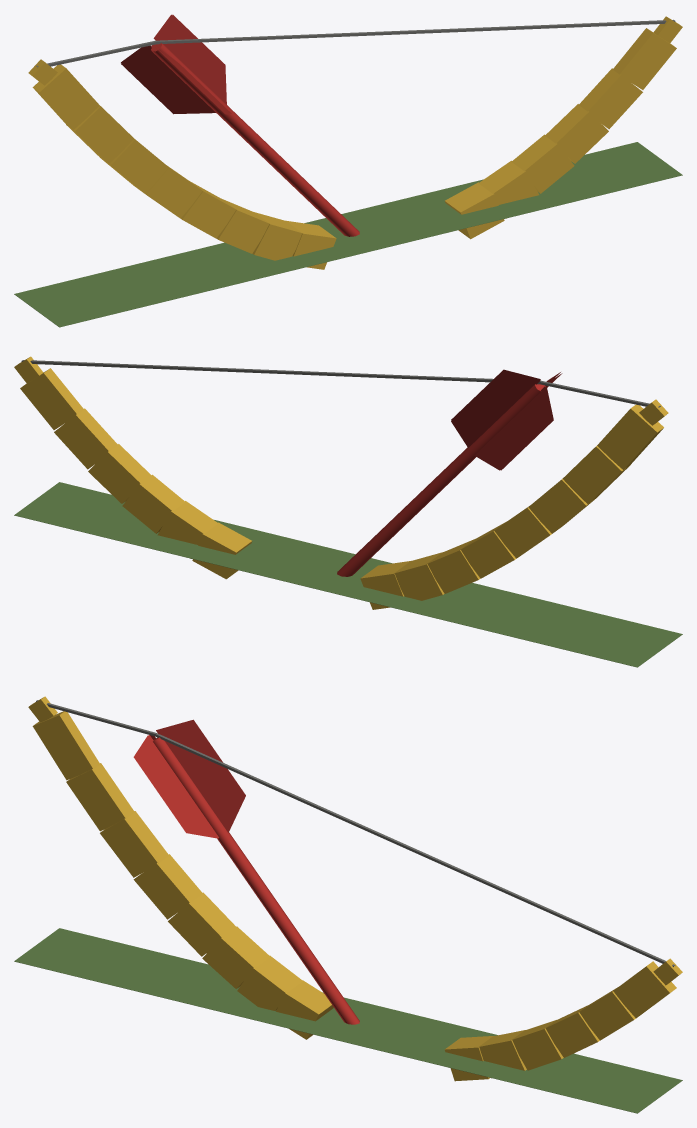
Rendered from cupids_span.glb.
3 views of the same model, one above another, from view 1: azimuth 30°, elevation 25°; view 2: azimuth 150°, elevation 25°; view 3: azimuth 330°, elevation 25° (orthographic).
Visible parts, largest first — view 1: cupids_span; view 2: cupids_span; view 3: cupids_span.
Part boxes in pixels (x1,y1,x2,y2): cupids_span: (14,14,682,327); cupids_span: (14,356,682,667); cupids_span: (14,696,682,1113).
Bounding box in the file's own units: 43.8 × 18 × 5.3.
Materials: 1 (1 with a texture image).
